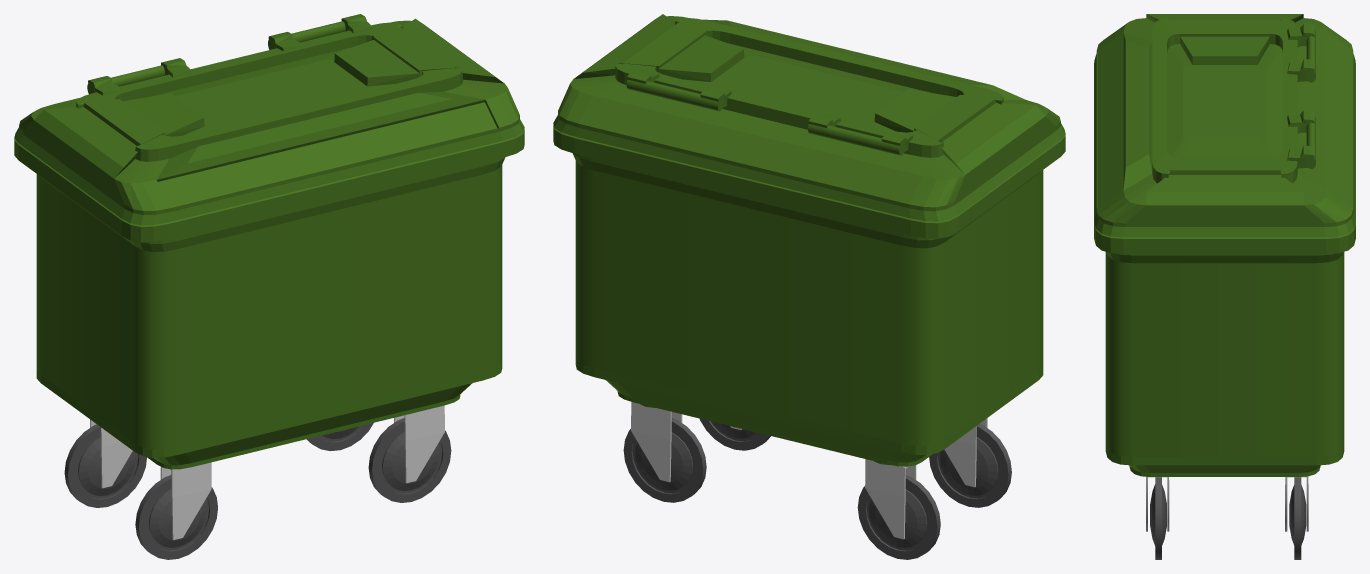
Rendered from trash_container_01.fbx.
3 views of the same model, side by side, from view 1: azimuth 30°, elevation 25°; view 2: azimuth 150°, elevation 25°; view 3: azimuth 270°, elevation 25° (orthographic). The views are drawn at different scales.
Parts seen in each view (by area): view 1: trash_container_01; view 2: trash_container_01; view 3: trash_container_01.
Part boxes in pixels (left/top/right/bottom): trash_container_01: left=14, top=14, right=524, bottom=559; trash_container_01: left=553, top=14, right=1065, bottom=559; trash_container_01: left=1094, top=14, right=1355, bottom=559.
Bounding box in the file's own units: 168 × 171 × 97.41.
